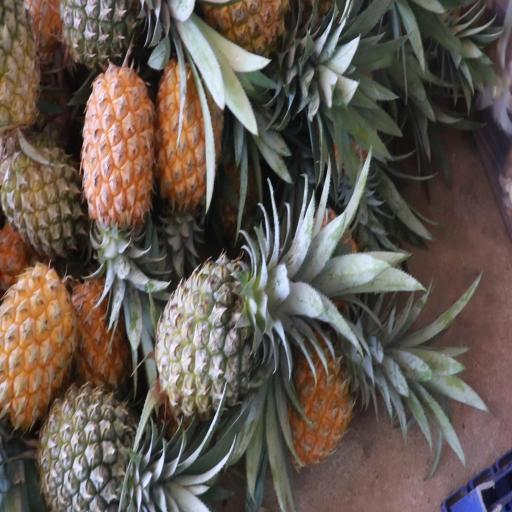Pineapple - v8 v1: (81, 53, 153, 267), (0, 255, 78, 441), (152, 58, 223, 221)
